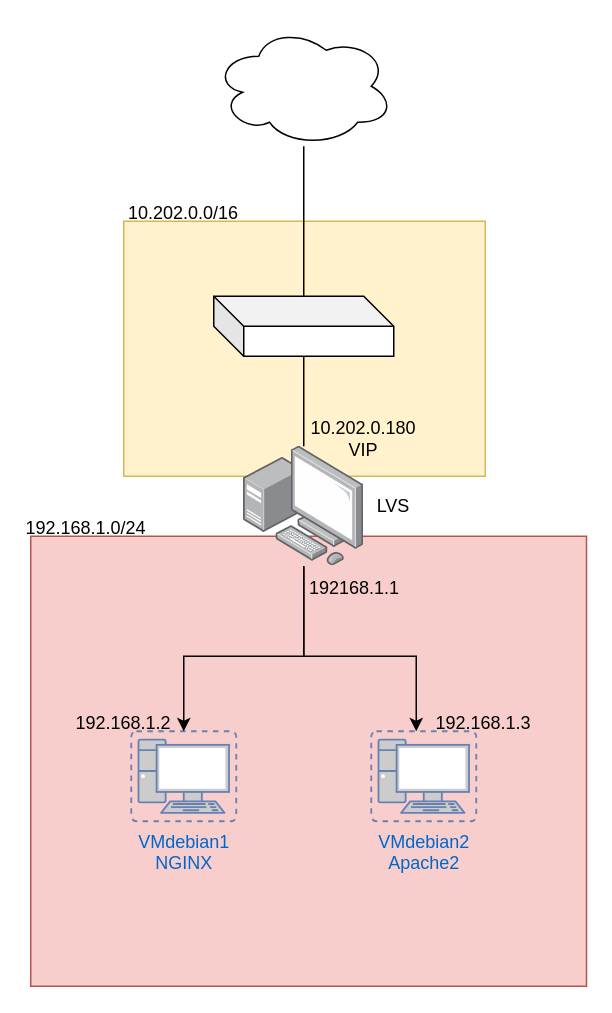
This 612x1013 diagram has some shape labels left out. Each missing label, with the centre of its shape:
Internet: pixel 303 85
Switch salle 202: pixel 303 325
